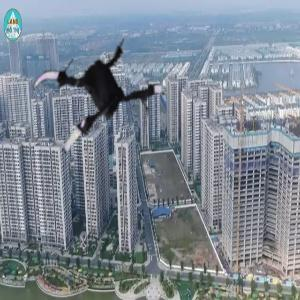drone: (31, 21, 178, 168)
